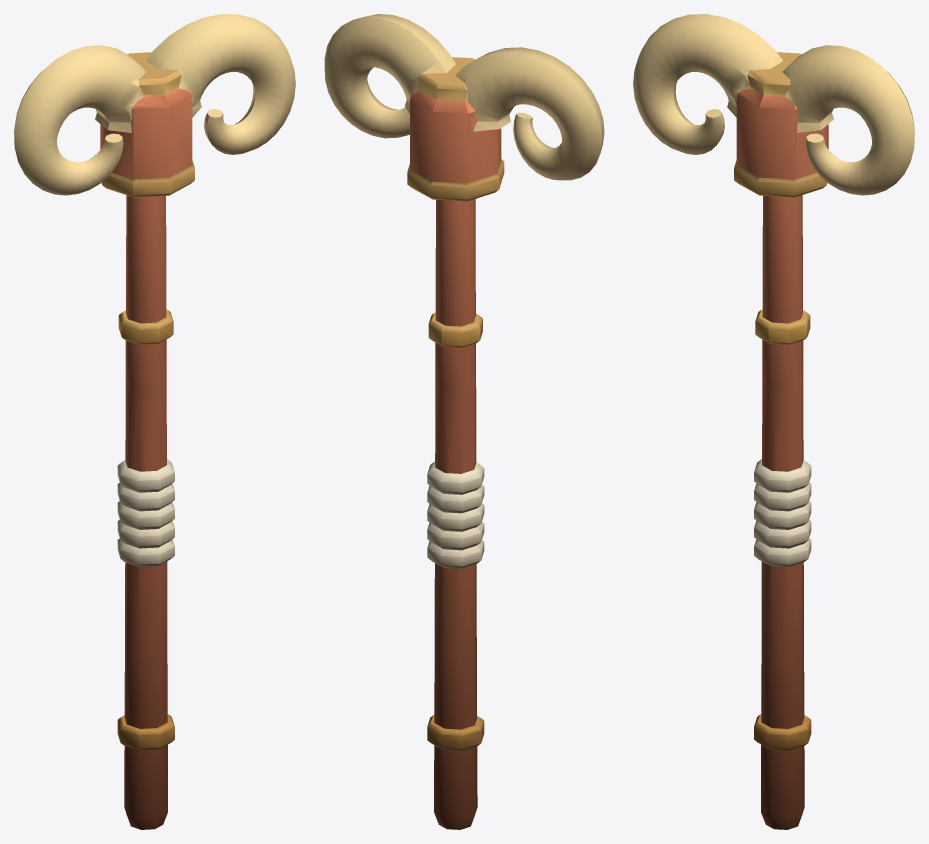
The model's file is staff_horned.glb.
The picture shows the model from 3 angles, left to right: view 1: azimuth 30°, elevation 25°; view 2: azimuth 150°, elevation 25°; view 3: azimuth 330°, elevation 25°; orthographic projection.
Visible parts, largest first — view 1: Item; view 2: Item; view 3: Item.
Part boxes in pixels (bbox=[...]): Item: bbox=[14, 14, 295, 829]; Item: bbox=[324, 14, 604, 829]; Item: bbox=[633, 14, 914, 829].
Size of the model in its own units: 0.8793 by 2.38 by 0.276.
Materials: 2 (2 with a texture image).
